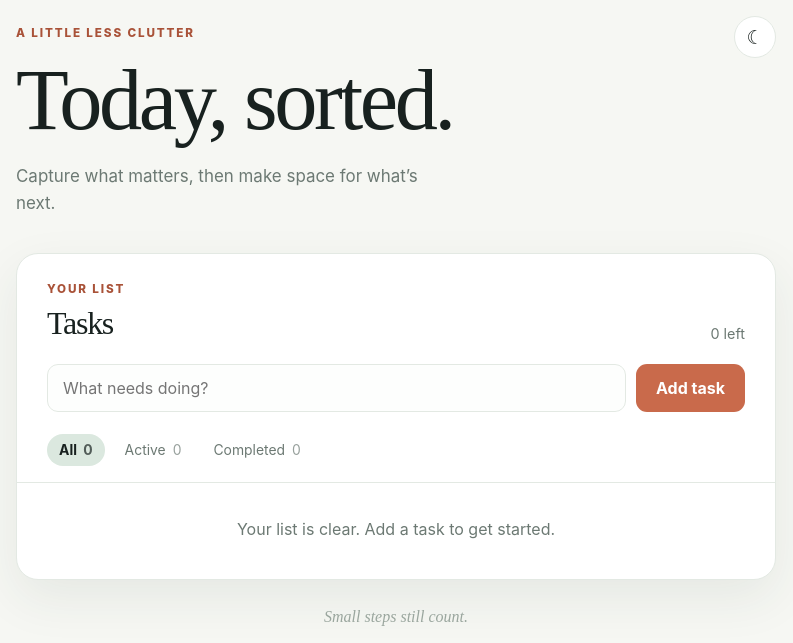
Scenario: todo app › adds a task when randomUUID is unavailable
Type "Works over HTTP" into the field named "Add a task". click: point(336, 388)
box: [47,364,626,412]
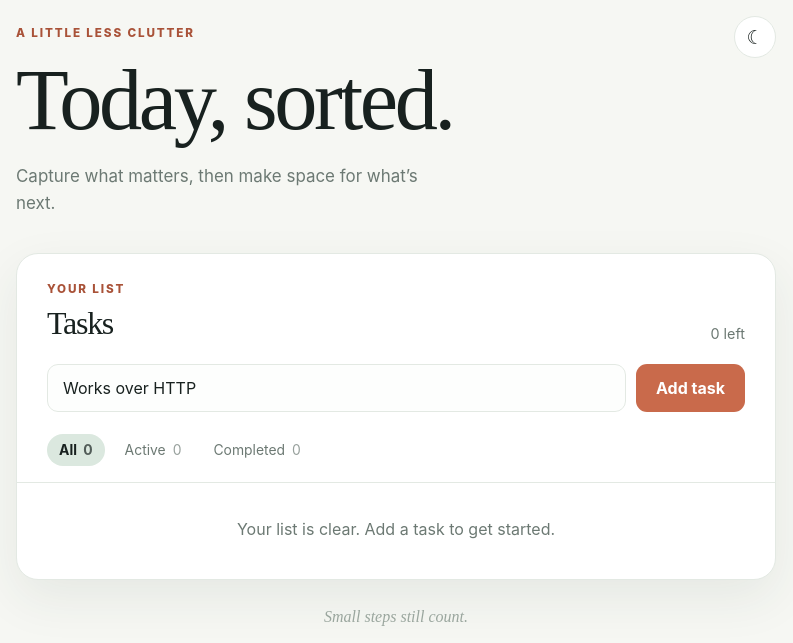
Submit the form named "Add a task", box [17,364,775,434]
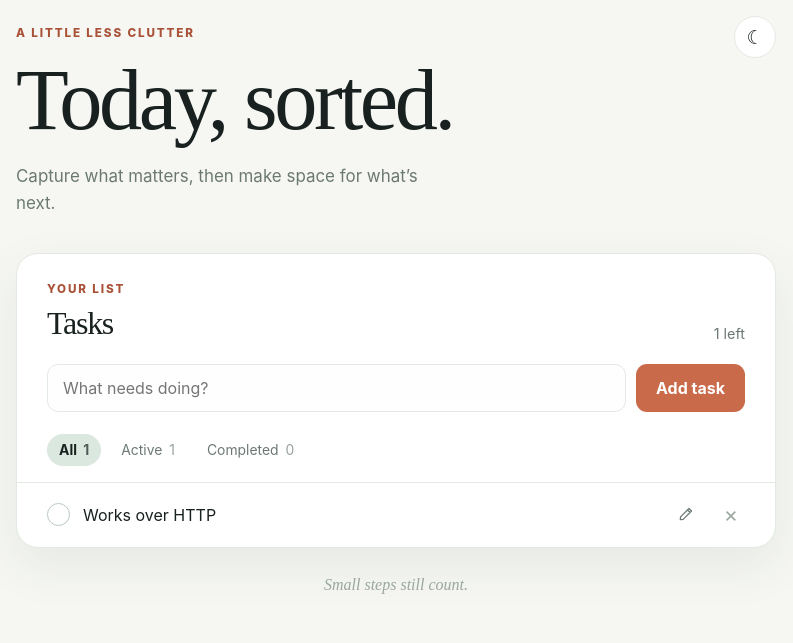
Check: the text "Works over HTTP" is shown, box [83,505,216,525]
